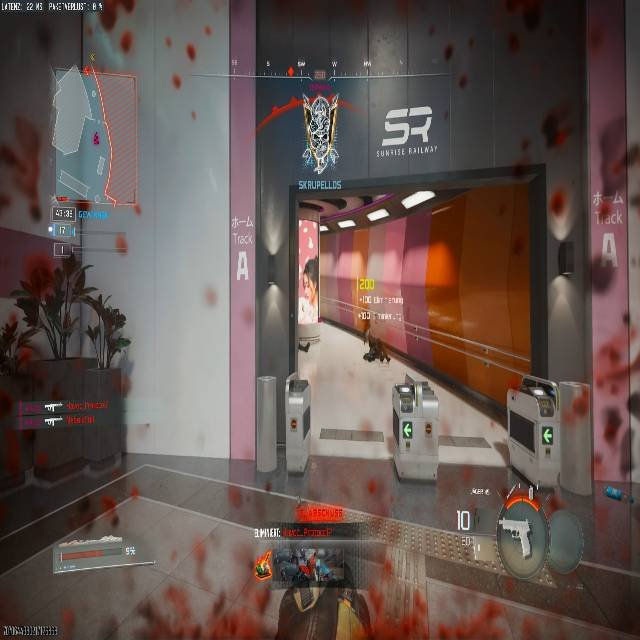head: (21, 245, 76, 303)
player: (0, 245, 134, 566), (254, 534, 355, 639)
